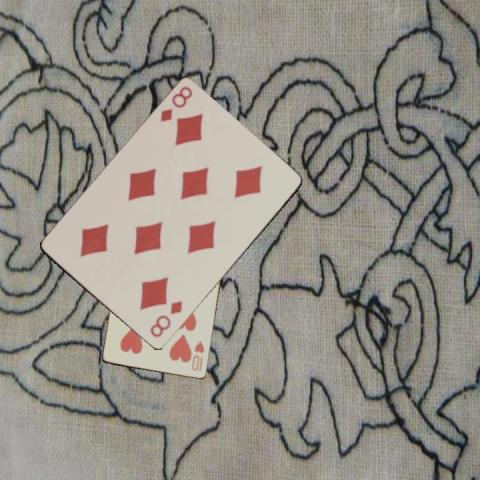10h: (189, 338, 205, 373)
8d: (147, 298, 184, 340), (157, 83, 194, 124)
